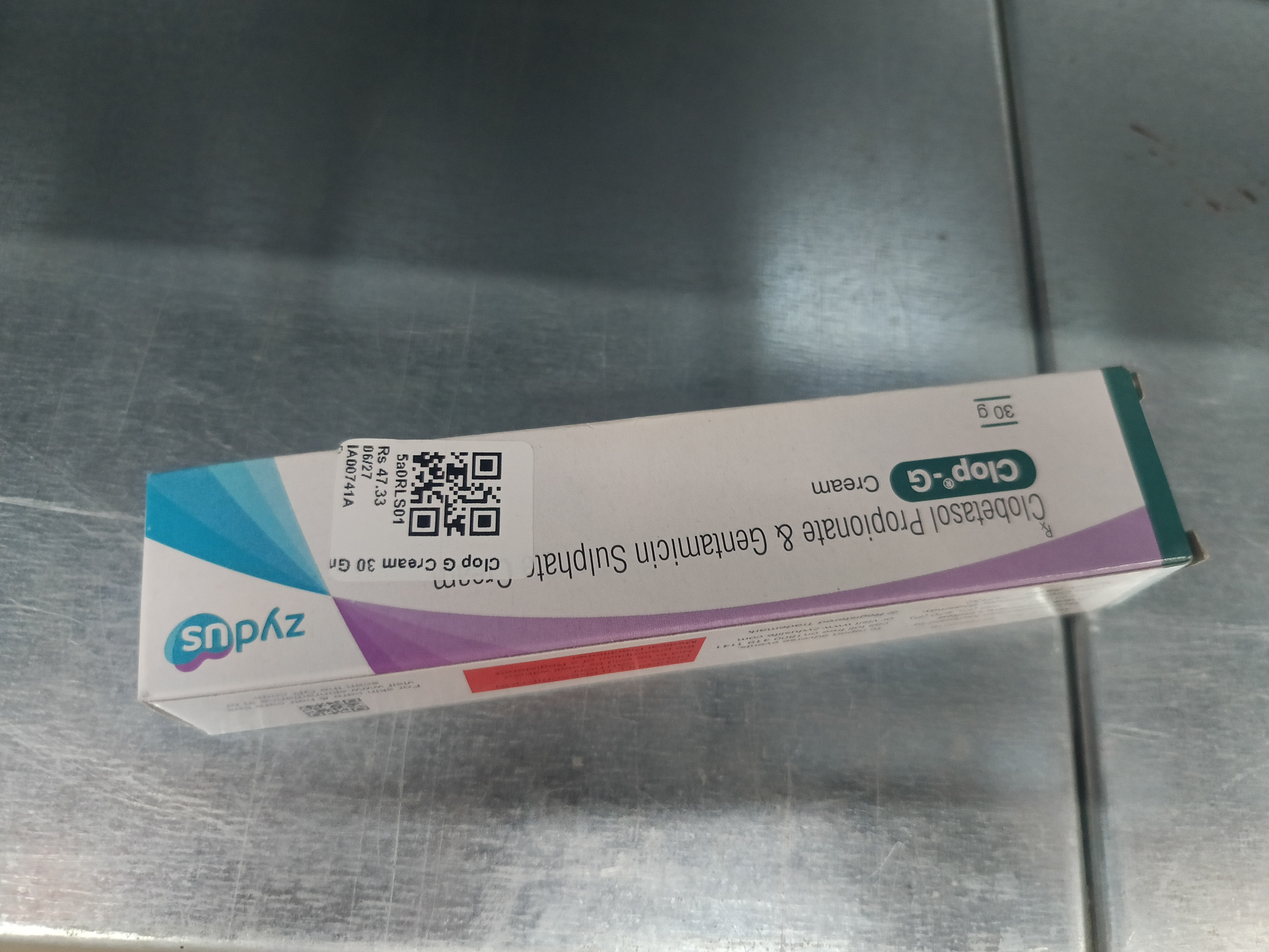qr_code: (408, 451, 502, 536)
